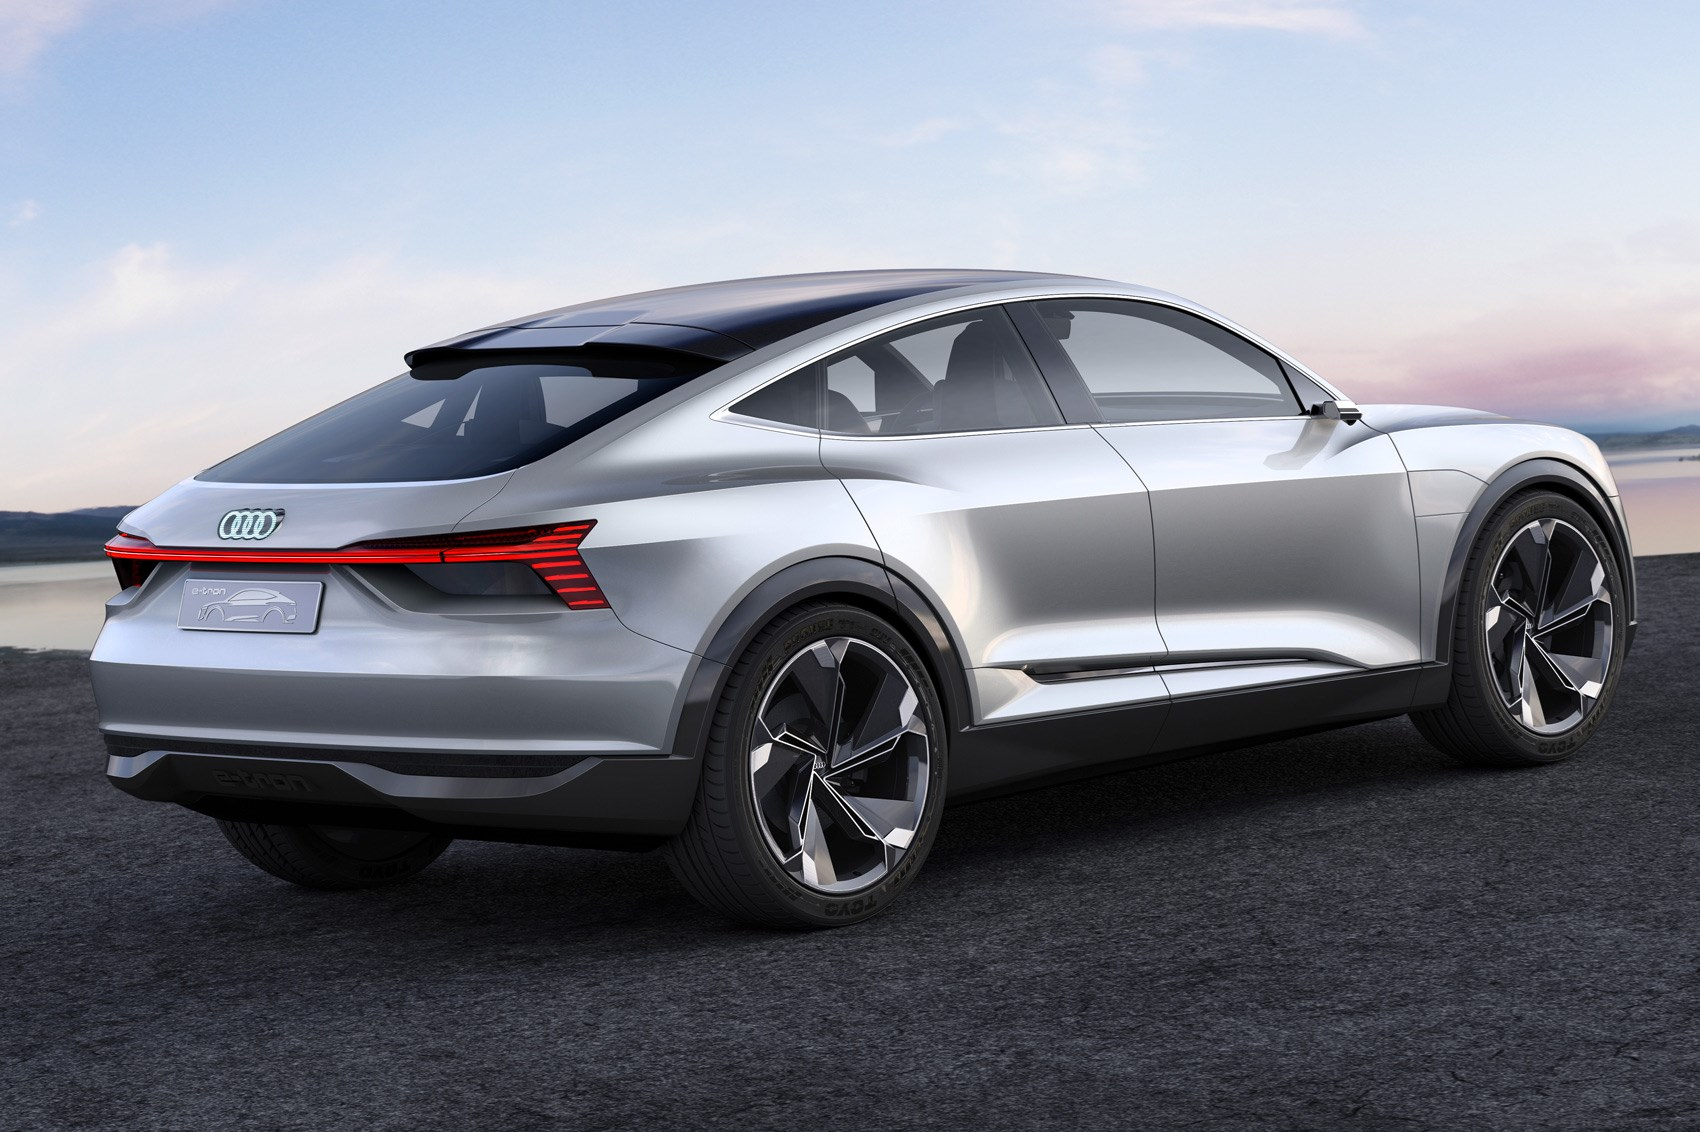audi: (78, 256, 1647, 935)
